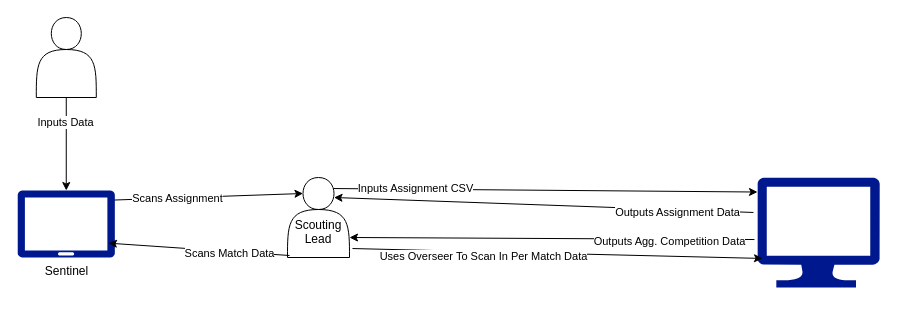
The diagram is 897 pixels wide and 326 high, and some of its shapes have lost their labels. Here are the shapes that lost their labels. From the top down, the centre of each, then its label:
the point at 65,57: Scouter
the point at 818,232: Overseer
